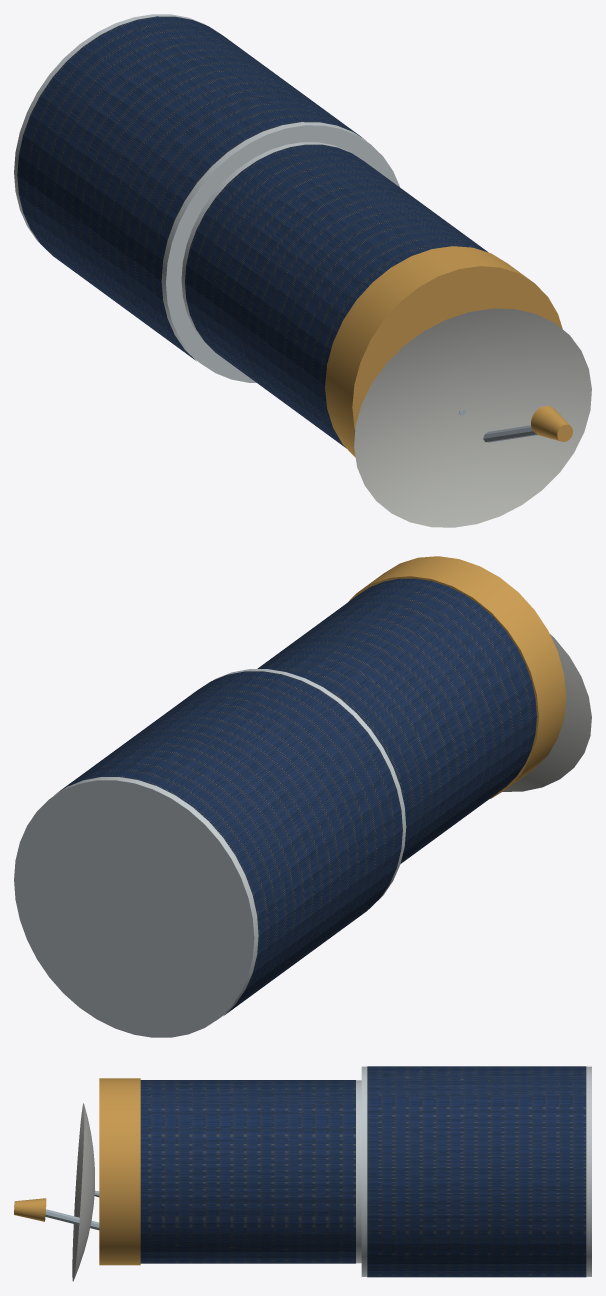
The model's file is ref-hs-383-13431.glb.
3 renders of one model, top to bottom at view 1: azimuth 30°, elevation 25°; view 2: azimuth 150°, elevation 25°; view 3: azimuth 270°, elevation 25°, orthographic. The views are drawn at different scales.
Visible parts, largest first — view 1: Body-mounted solar cells (×2), Deck-mounted reflector, Despun equipment deck, Solar drum core (×2), Feed horn; view 2: Body-mounted solar cells (×2), Solar drum core, Despun equipment deck, Deck-mounted reflector; view 3: Body-mounted solar cells (×2), Despun equipment deck, Solar drum core (×2), Deck-mounted reflector, Feed horn, Offset feed boom.
Part boxes in pixels (x1,y1,x2,y2): Body-mounted solar cells (×2): [17, 16, 488, 448]; Deck-mounted reflector: [354, 308, 591, 527]; Despun equipment deck: [325, 246, 562, 457]; Solar drum core (×2): [14, 14, 400, 382]; Feed horn: [531, 405, 572, 441]; Body-mounted solar cells (×2): [55, 578, 536, 1015]; Solar drum core: [14, 669, 406, 1037]; Despun equipment deck: [348, 556, 566, 798]; Deck-mounted reflector: [502, 634, 591, 791]; Body-mounted solar cells (×2): [140, 1066, 586, 1277]; Despun equipment deck: [99, 1078, 140, 1265]; Solar drum core (×2): [356, 1066, 591, 1276]; Deck-mounted reflector: [72, 1103, 94, 1281]; Feed horn: [14, 1198, 46, 1221]; Offset feed boom: [45, 1209, 99, 1230].
Size of the model in its own units: 2.21 by 2.24 by 6.05.
5 materials, 1 textured.
